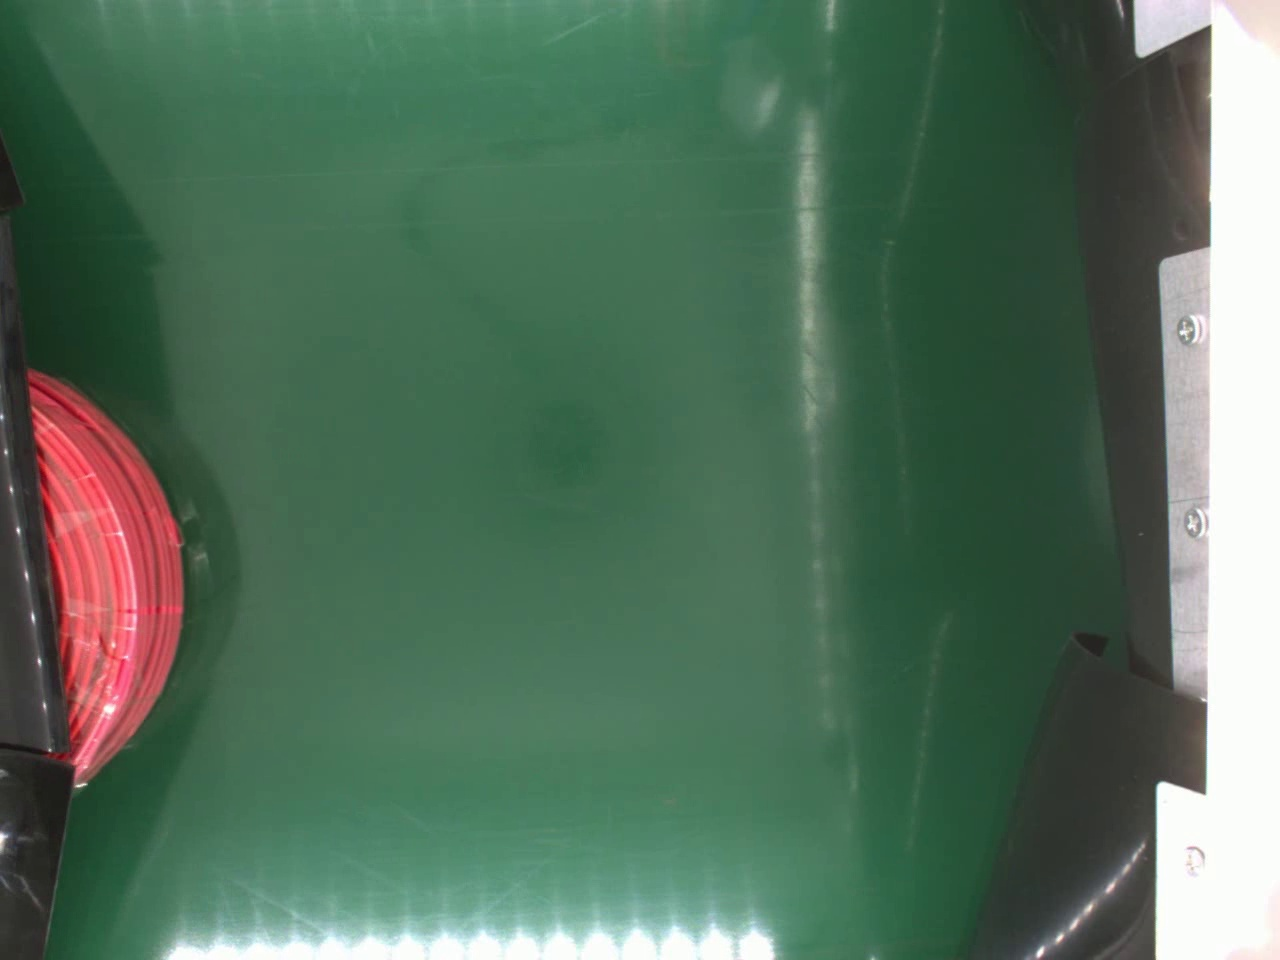red: (27, 369, 188, 793)
